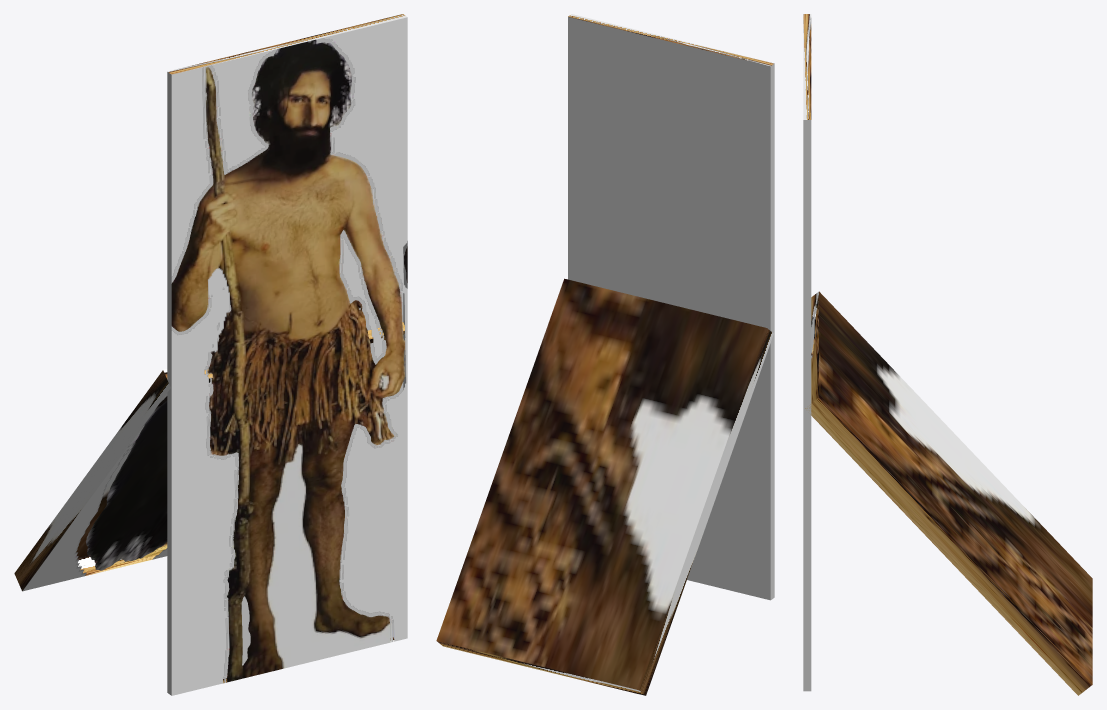
Rendered from Cutout.fbx.
3 views of the same model, side by side, from view 1: azimuth 30°, elevation 25°; view 2: azimuth 150°, elevation 25°; view 3: azimuth 270°, elevation 25° (orthographic). The views are drawn at different scales.
Parts seen in each view (by area): view 1: Cube.001; view 2: Cube.001; view 3: Cube.001.
Part boxes in pixels (x1,y1,x2,y2): Cube.001: (14,14,407,695); Cube.001: (436,14,774,695); Cube.001: (803,14,1092,695).
Size of the model in its own units: 200 by 507 by 231.
